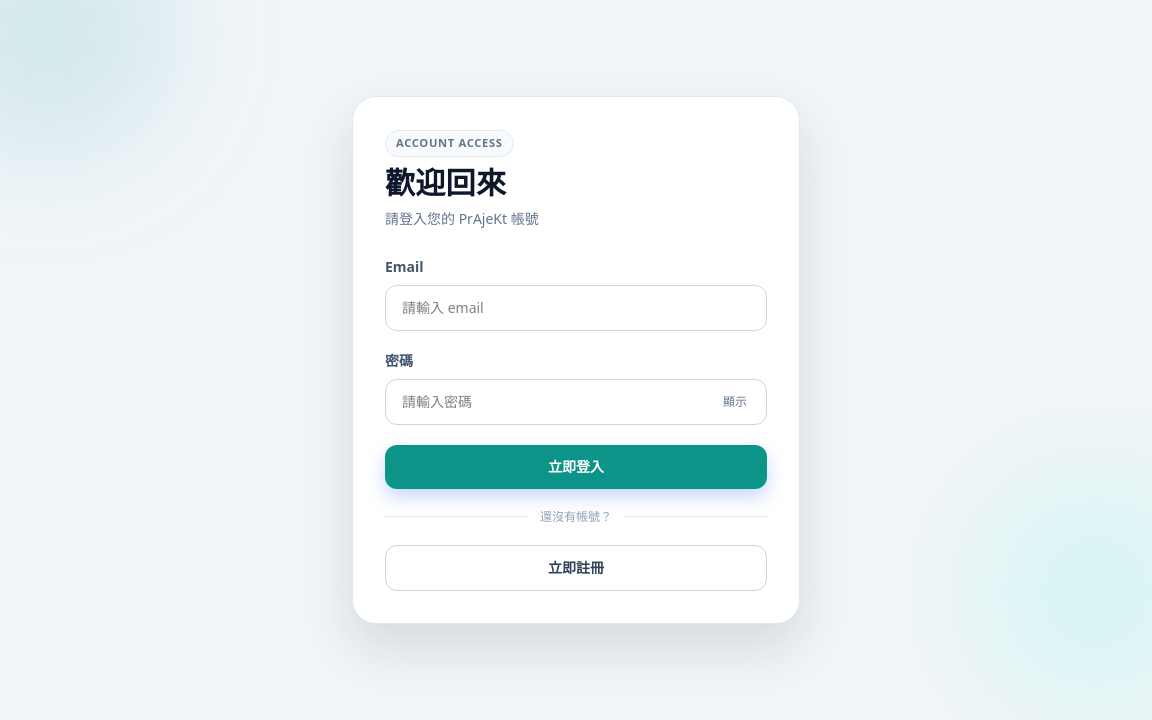
Test case: authentication views › renders the returned error after a failed login
In the field with placeholder "請輸入 email": point(576, 308) [385,285,767,331], type "user@example.com"
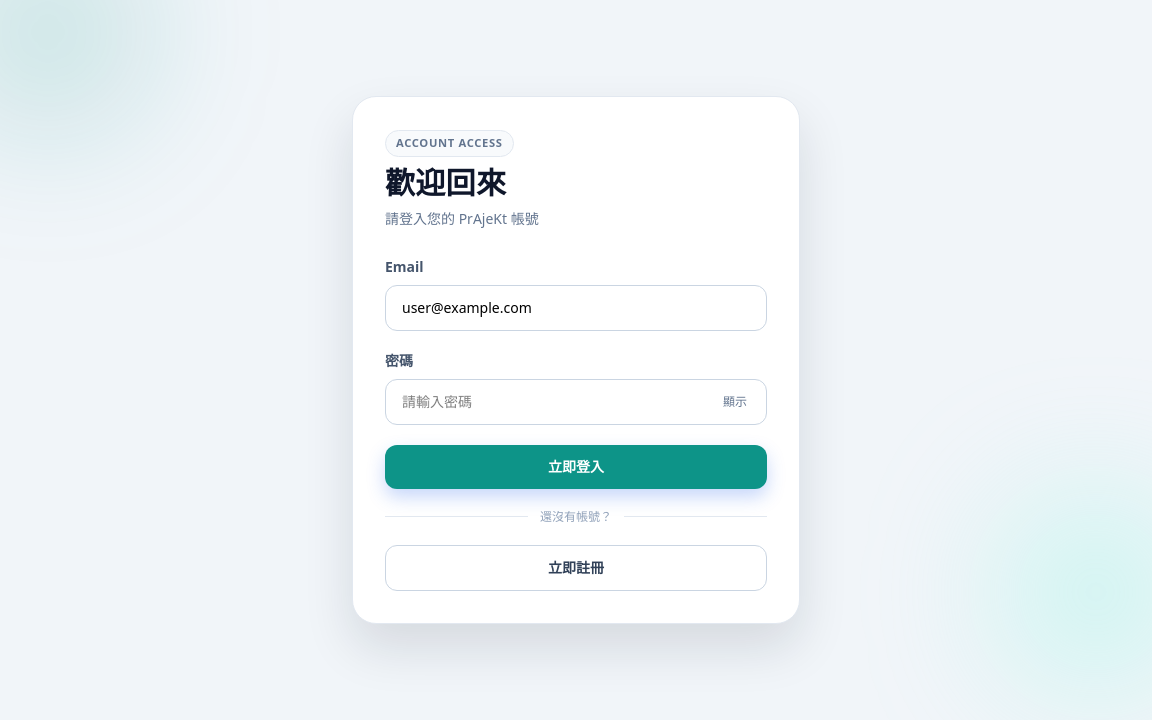
In the password field with placeholder "請輸入密碼": point(576, 402) [385,379,767,425], type "wrong-password"
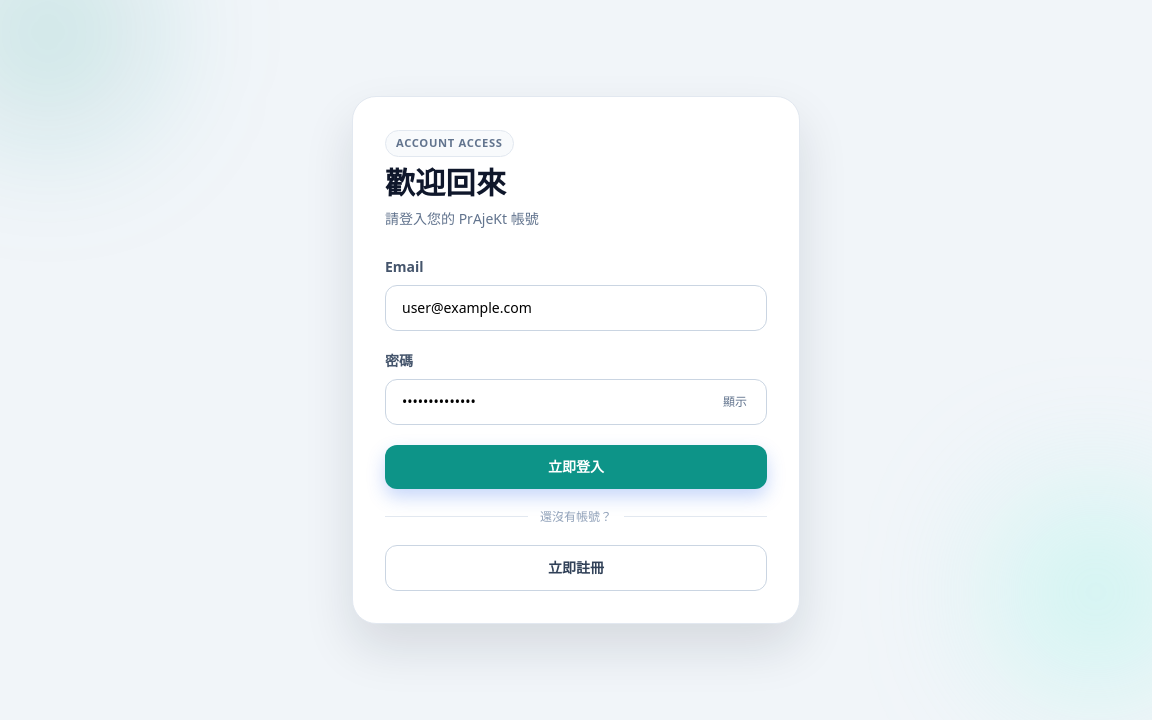
Submit the form, box [385,257,767,591]
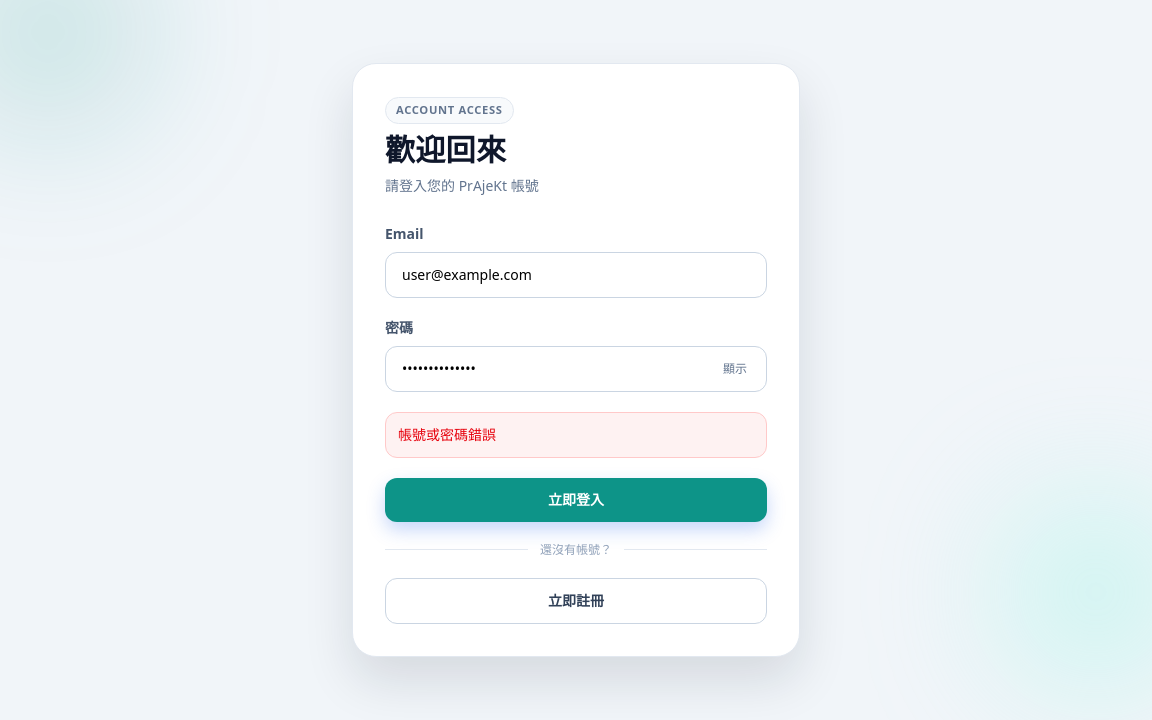
Result: the text "帳號或密碼錯誤" is shown at [385,412,767,458]
